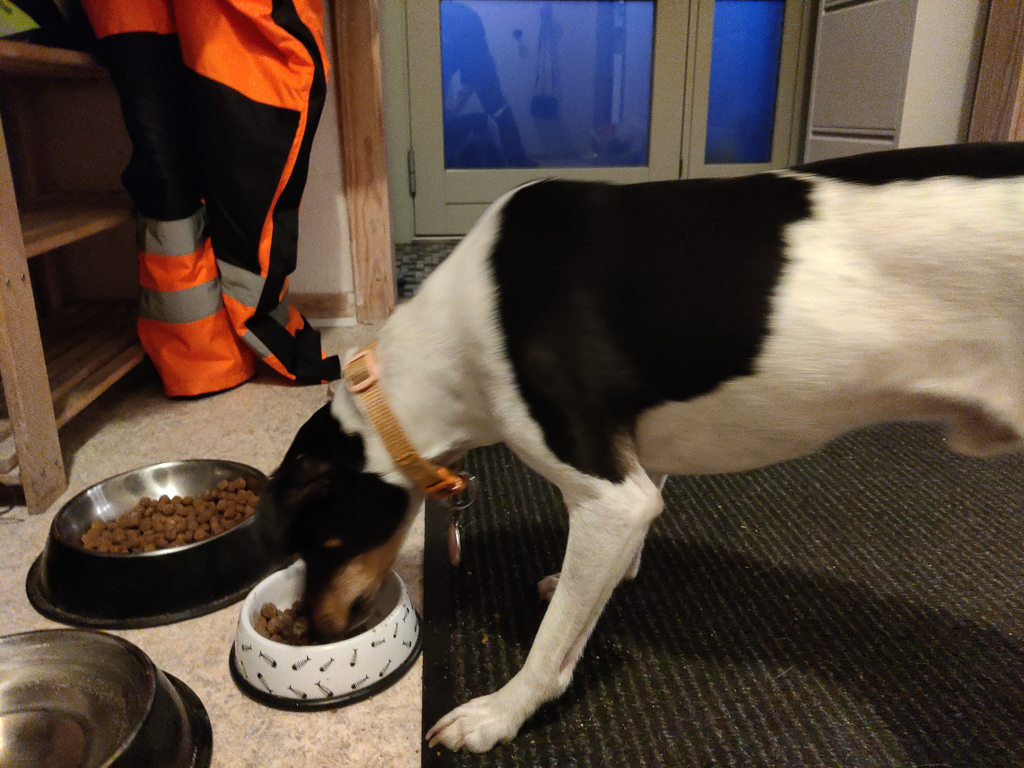Dog: (242, 133, 1024, 759)
